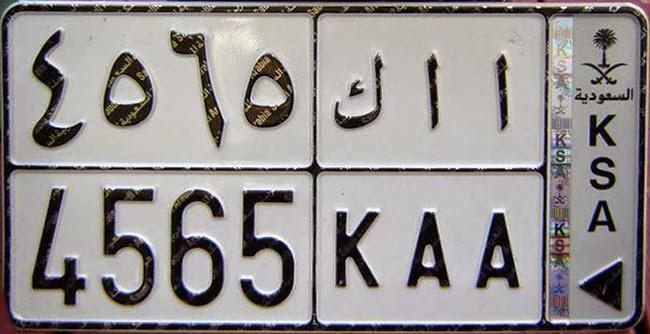4: (31, 27, 87, 308)
5: (240, 49, 296, 310), (101, 50, 157, 307)
6: (167, 28, 229, 307)
A: (474, 52, 523, 290), (406, 53, 452, 290)
K: (331, 50, 384, 289)
